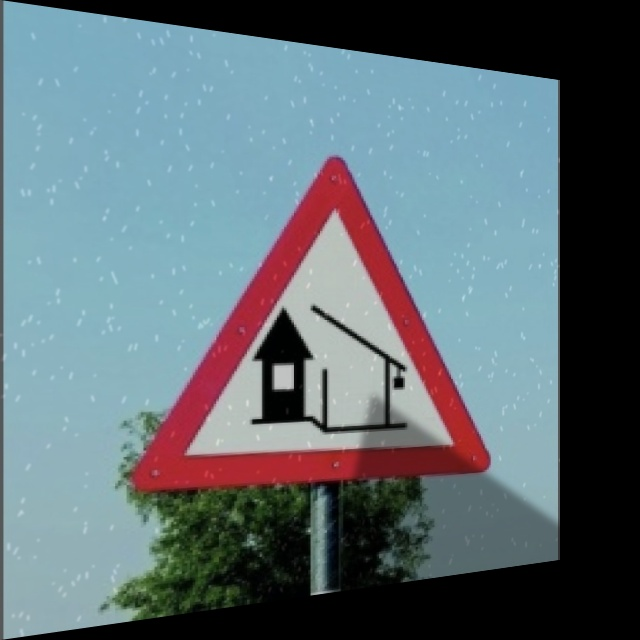Barrier_Ahead: (151, 141, 480, 506)
